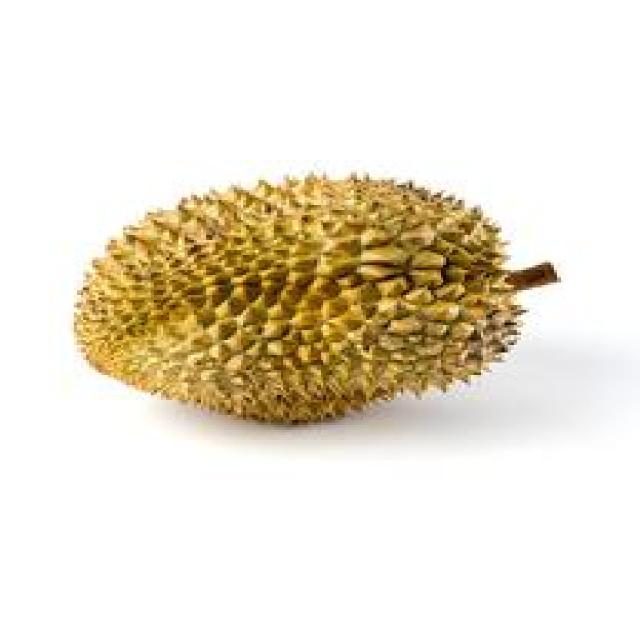non_orange: (70, 155, 551, 450)
